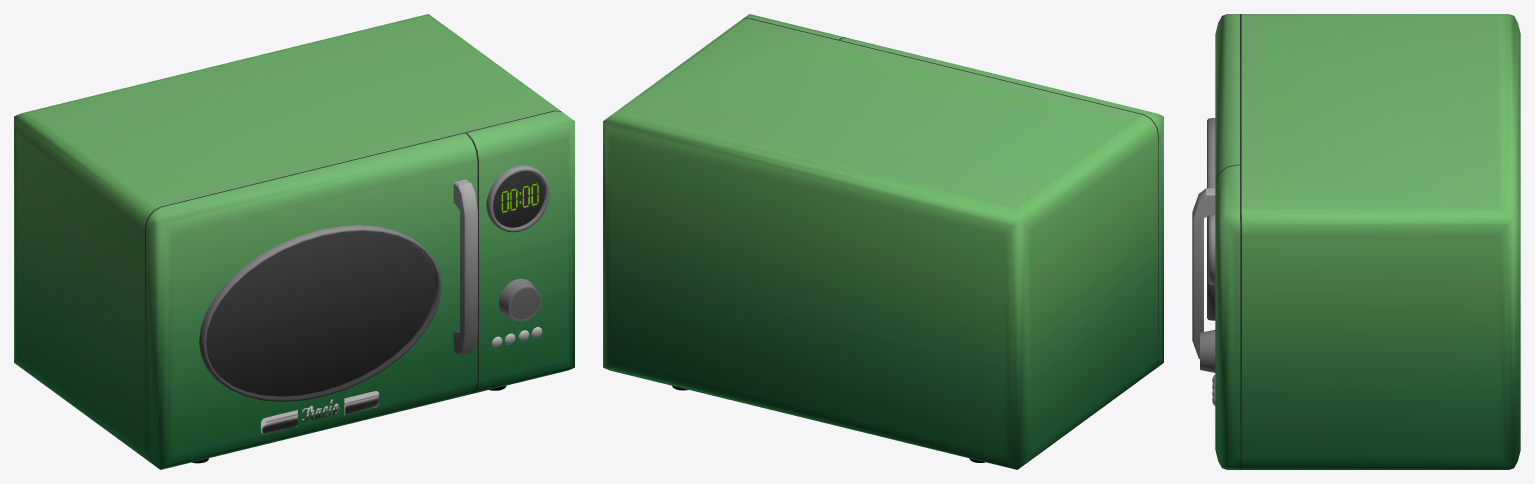
Rendered from Microwave (2019_09_06 16_57_56 UTC).fbx.
3 renders of one model, left to right at view 1: azimuth 30°, elevation 25°; view 2: azimuth 150°, elevation 25°; view 3: azimuth 270°, elevation 25°, orthographic.
Visible parts, largest first — view 1: Microwave, Plane001; view 2: Microwave; view 3: Microwave.
Part boxes in pixels (x1,y1,x2,y2): Microwave: (14,14,574,469); Plane001: (261,391,379,434); Microwave: (603,14,1163,469); Microwave: (1192,14,1520,469).
Size of the model in its own units: 103 by 62.39 by 68.4.
Materials: 2 (2 with a texture image).
